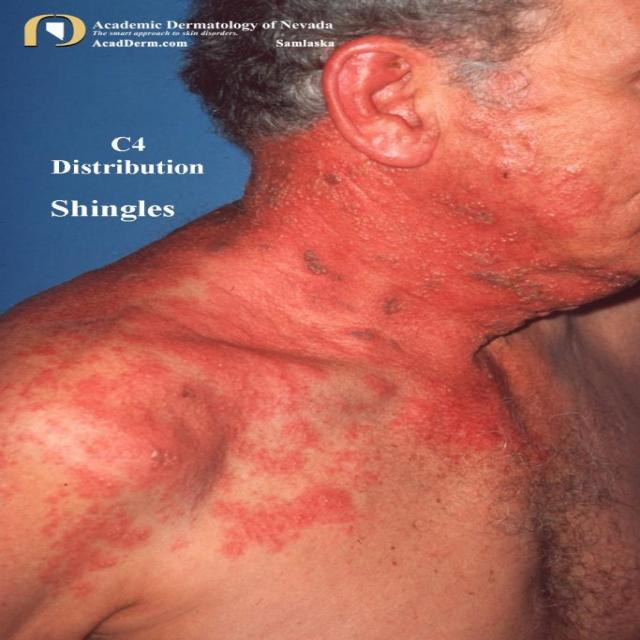herpes zoster: (467, 248, 584, 319), (343, 287, 418, 356), (280, 233, 358, 287), (130, 439, 195, 478)
